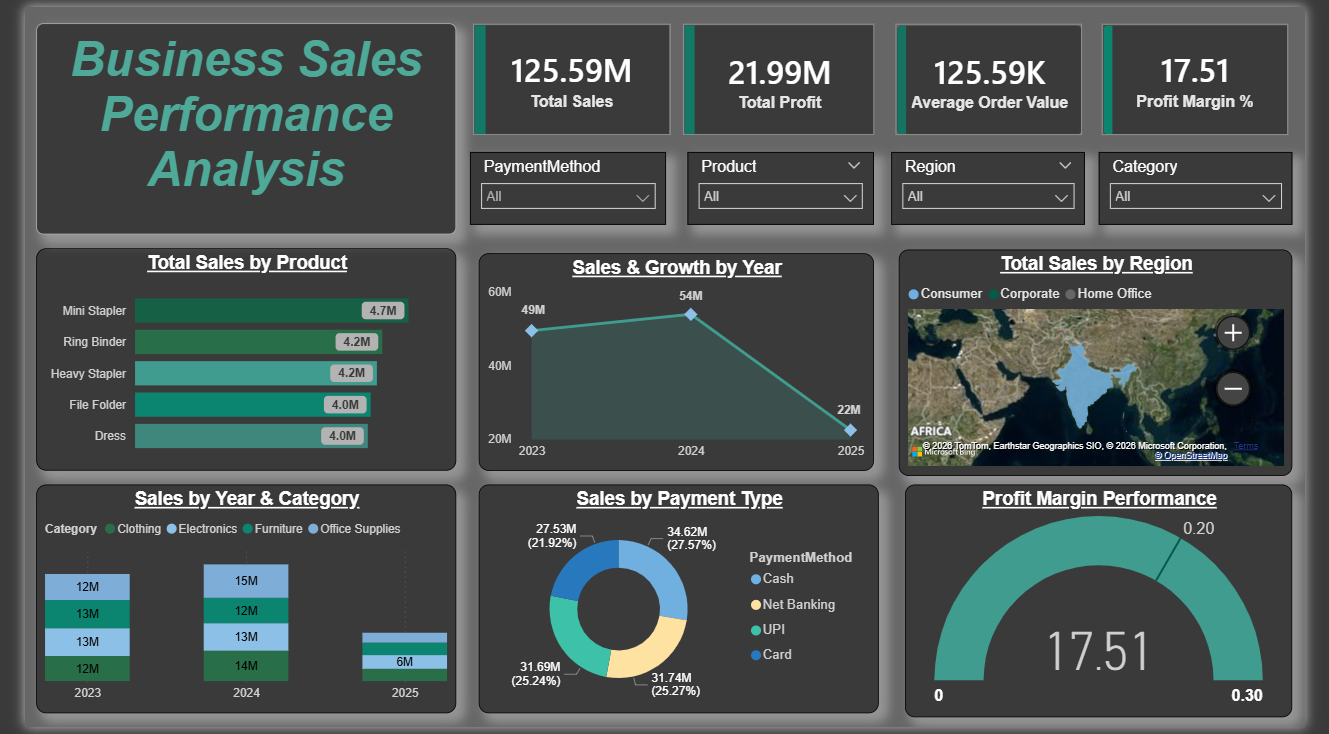

The page's visual inventory and layout, read from the dashboard file:
{"tool":"powerbi","page":{"name":"Page 1","canvas":[1280,720],"ordinal":0},"visuals":[{"type":"lineChart","title":"Sales & Growth by Year","fields":{"Category":["SalesData.OrderDate.Variation.Date Hierarchy.Year","SalesData.OrderDate.Variation.Date Hierarchy.Quarter","SalesData.OrderDate.Variation.Date Hierarchy.Month","SalesData.OrderDate.Variation.Date Hierarchy.Day"],"Y":["SalesData.Total Sales"]},"box":[453.8,246.2,395,217.5],"z":0},{"type":"filledMap","title":"Total Sales by Region ","fields":{"Category":["SalesData.Region"],"Series":["SalesData.Segment"]},"box":[873.8,242.5,393.8,226.2],"z":1000},{"type":"barChart","fields":{"Category":["SalesData.Product"],"Y":["SalesData.Total Sales"]},"box":[11.2,241.2,420,222.5],"z":2000},{"type":"donutChart","title":"Sales by Payment Type","fields":{"Category":["SalesData.PaymentMethod"],"Y":["SalesData.Total Sales"]},"box":[453.8,477.5,400,228.8],"z":3000},{"type":"gauge","title":"Profit Margin Performance","fields":{"Y":["SalesData.Profit Margin %"],"MaxValue":["SalesData.Max Value"],"MinValue":["SalesData.Min Value"],"TargetValue":["SalesData.Target Value"]},"box":[873.8,477.5,393.8,232.5],"z":4000},{"type":"textbox","box":[11.2,16.2,420,211.2],"z":5000},{"type":"slicer","fields":{"Values":["SalesData.PaymentMethod"]},"box":[445,145,196.2,72.5],"z":7000},{"type":"slicer","fields":{"Values":["SalesData.Region"]},"box":[866.2,145,193.8,72.5],"z":8000},{"type":"slicer","fields":{"Values":["SalesData.Product"]},"box":[662.5,145,186.2,72.5],"z":9000},{"type":"slicer","fields":{"Values":["SalesData.Category"]},"box":[1073.8,145,193.8,72.5],"z":10000},{"type":"columnChart","title":"Sales by Year & Category","fields":{"Category":["SalesData.Year"],"Series":["SalesData.Category"],"Y":["SalesData.Total Sales"]},"box":[11.2,477.5,420,228.8],"z":11000},{"type":"cardVisual","fields":{"Data":["SalesData.Profit Margin %"]},"box":[1060,0,220,145],"z":12000},{"type":"cardVisual","fields":{"Data":["SalesData.Average Order Value"]},"box":[853.8,0,220,145],"z":13000},{"type":"cardVisual","fields":{"Data":["SalesData.Total Sales"]},"box":[431.2,0,231.2,145],"z":14000},{"type":"cardVisual","fields":{"Data":["SalesData.Total Profit"]},"box":[641.2,0,225,145],"z":15000}]}

Visuals, with their boxes in screenshot pixels (x1, y1, x2, y2), scaled from the page's 1280x720 canvas onto the 1329x734 screenshot:
"Sales & Growth by Year" lineChart: bbox(471, 251, 881, 473)
"Total Sales by Region " filledMap: bbox(907, 247, 1316, 478)
barChart - SalesData.Product x SalesData.Total Sales: bbox(12, 246, 448, 473)
"Sales by Payment Type" donutChart: bbox(471, 487, 886, 720)
"Profit Margin Performance" gauge: bbox(907, 487, 1316, 724)
textbox: bbox(12, 17, 448, 232)
slicer - SalesData.PaymentMethod: bbox(462, 148, 666, 222)
slicer - SalesData.Region: bbox(899, 148, 1101, 222)
slicer - SalesData.Product: bbox(688, 148, 881, 222)
slicer - SalesData.Category: bbox(1115, 148, 1316, 222)
"Sales by Year & Category" columnChart: bbox(12, 487, 448, 720)
cardVisual - SalesData.Profit Margin %: bbox(1101, 0, 1328, 148)
cardVisual - SalesData.Average Order Value: bbox(886, 0, 1115, 148)
cardVisual - SalesData.Total Sales: bbox(448, 0, 688, 148)
cardVisual - SalesData.Total Profit: bbox(666, 0, 899, 148)
